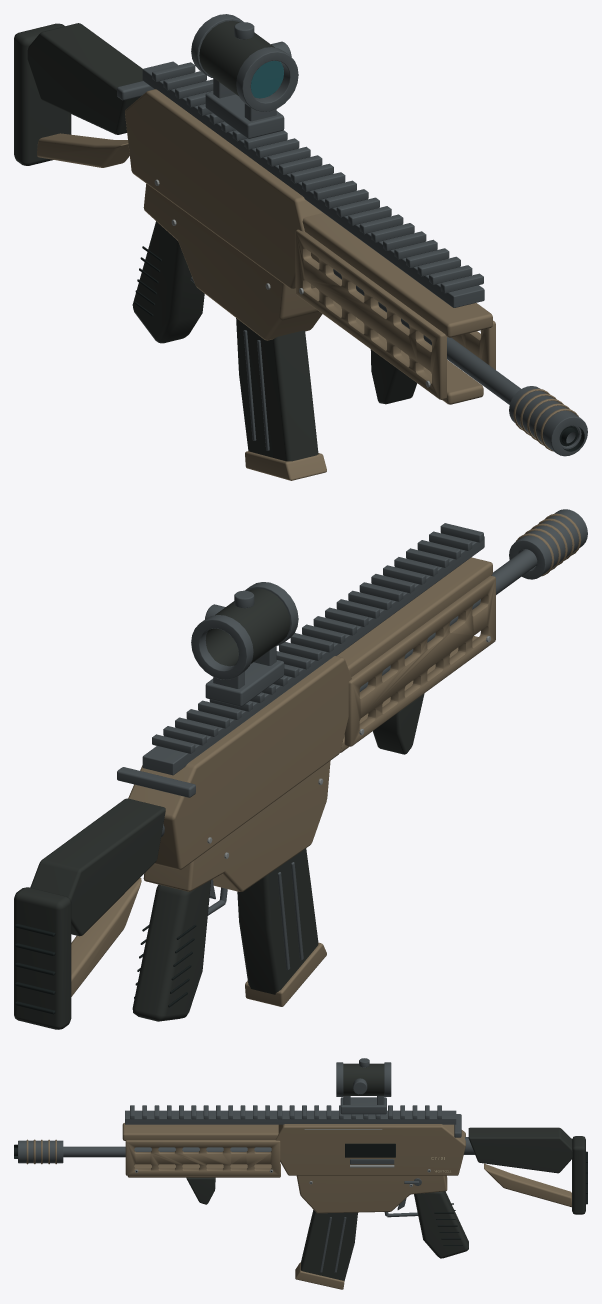
The model's file is nc7_carbine_v1.glb.
3 renders of one model, top to bottom at view 1: azimuth 30°, elevation 25°; view 2: azimuth 150°, elevation 25°; view 3: azimuth 270°, elevation 25°, orthographic. The views are drawn at different scales.
Parts seen in each view (by area): view 1: nc7_carbine_v1_nc7_coating, nc7_carbine_v1_nc7_polymer, nc7_carbine_v1_nc7_alloy, nc7_carbine_v1_nc7_lens, nc7_carbine_v1_nc7_dark; view 2: nc7_carbine_v1_nc7_coating, nc7_carbine_v1_nc7_polymer, nc7_carbine_v1_nc7_alloy, nc7_carbine_v1_nc7_dark; view 3: nc7_carbine_v1_nc7_coating, nc7_carbine_v1_nc7_polymer, nc7_carbine_v1_nc7_alloy, nc7_carbine_v1_nc7_dark.
Boxes of the visible parts, left/top/right/bottom form: nc7_carbine_v1_nc7_coating: left=37, top=89, right=578, bottom=480; nc7_carbine_v1_nc7_polymer: left=14, top=20, right=417, bottom=461; nc7_carbine_v1_nc7_alloy: left=117, top=14, right=587, bottom=456; nc7_carbine_v1_nc7_lens: left=251, top=60, right=283, bottom=98; nc7_carbine_v1_nc7_dark: left=134, top=246, right=584, bottom=451; nc7_carbine_v1_nc7_coating: left=71, top=513, right=581, bottom=1006; nc7_carbine_v1_nc7_polymer: left=14, top=588, right=424, bottom=1029; nc7_carbine_v1_nc7_alloy: left=117, top=509, right=587, bottom=970; nc7_carbine_v1_nc7_dark: left=15, top=924, right=196, bottom=1014; nc7_carbine_v1_nc7_coating: left=26, top=1123, right=571, bottom=1289; nc7_carbine_v1_nc7_polymer: left=186, top=1063, right=585, bottom=1281; nc7_carbine_v1_nc7_alloy: left=18, top=1058, right=474, bottom=1272; nc7_carbine_v1_nc7_dark: left=14, top=1143, right=587, bottom=1245.
Size of the model in its own units: 0.0765 by 0.4145 by 0.9575.
